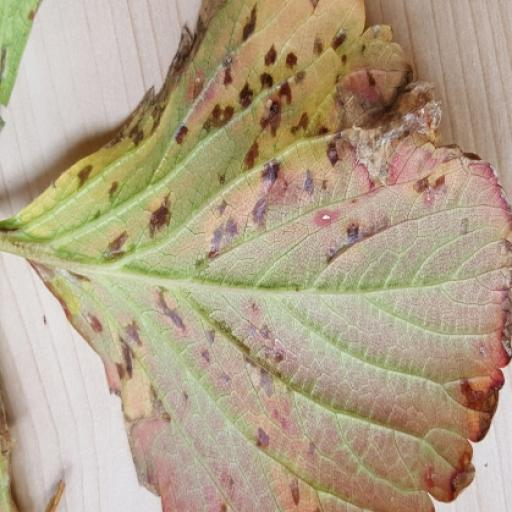Angular Leafspot: (0, 0, 511, 511)
